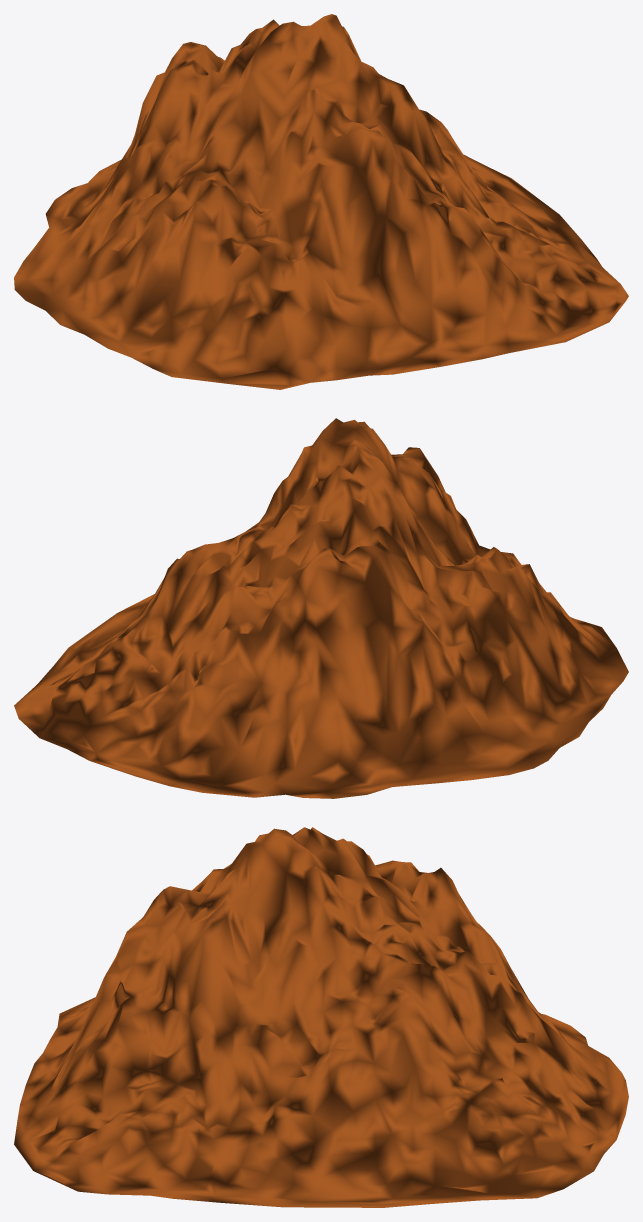
Rendered from Mounting_1.obj.
3 renders of one model, top to bottom at view 1: azimuth 30°, elevation 25°; view 2: azimuth 150°, elevation 25°; view 3: azimuth 270°, elevation 25°, orthographic. The views are drawn at different scales.
Parts seen in each view (by area): view 1: Mounting_1; view 2: Mounting_1; view 3: Mounting_1.
Part boxes in pixels (left/top/right/bottom): Mounting_1: left=14, top=14, right=628, bottom=389; Mounting_1: left=14, top=418, right=628, bottom=798; Mounting_1: left=14, top=827, right=628, bottom=1207.
Bounding box in the file's own units: 1572 × 780 × 1675.
